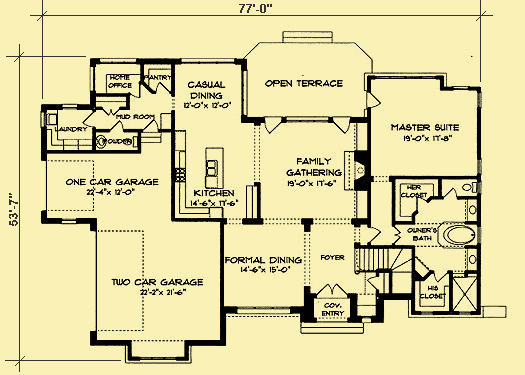bathroom has a bathtub with small sinks and large sink with shower space: (409, 176, 481, 316)
kitchen has a twin sink with cooking range: (174, 121, 258, 221)
laundry room has a washer and dryer: (40, 104, 95, 155)
small bathroom has a large sink with small sink: (93, 130, 144, 154)
